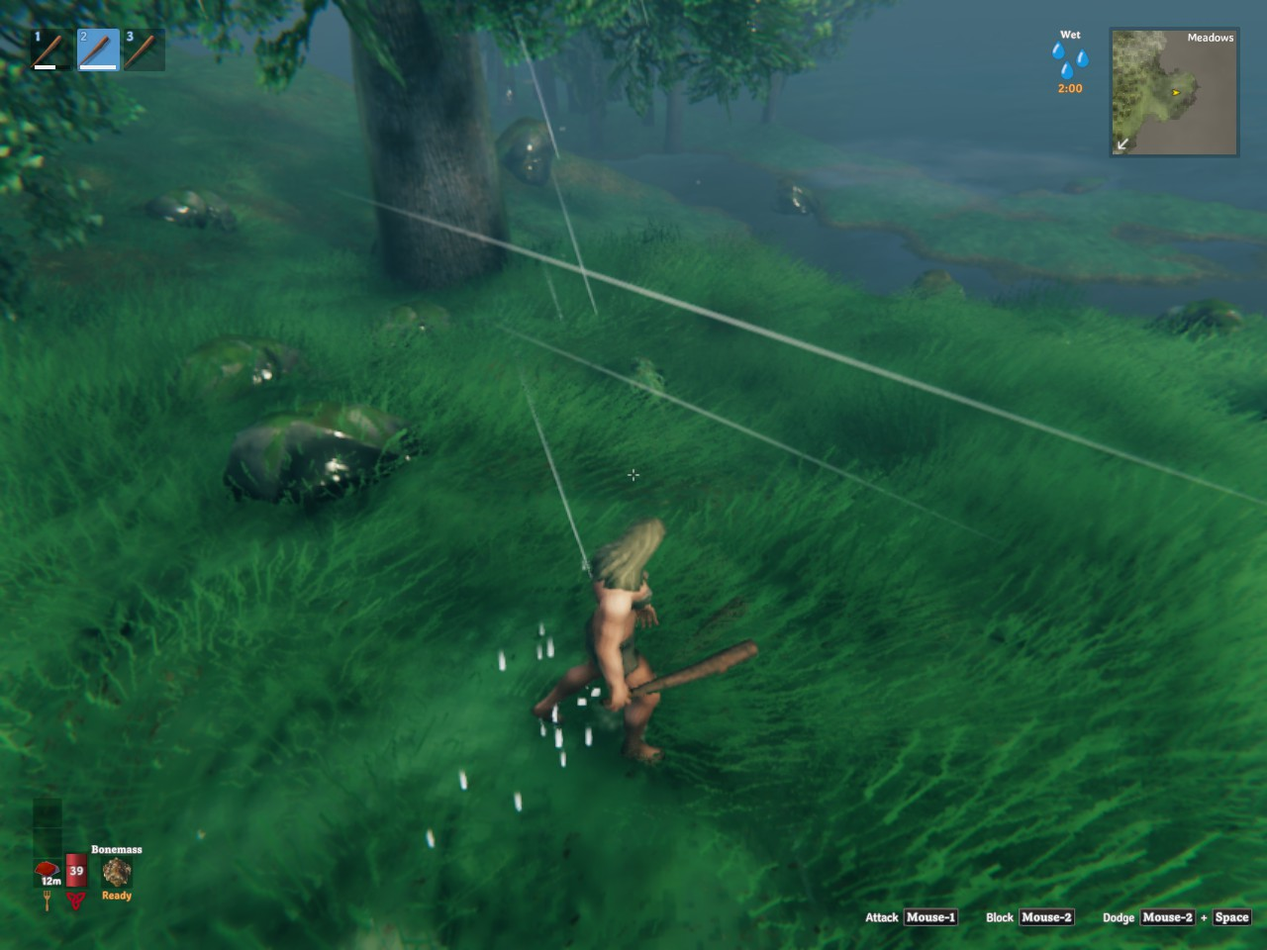Food Indicator: (36, 797, 63, 891)
Health Bar: (63, 820, 90, 891)
Hotbar: (24, 21, 195, 80)
Neck: (632, 357, 664, 390)
Status Indicator: (1024, 22, 1111, 100)
